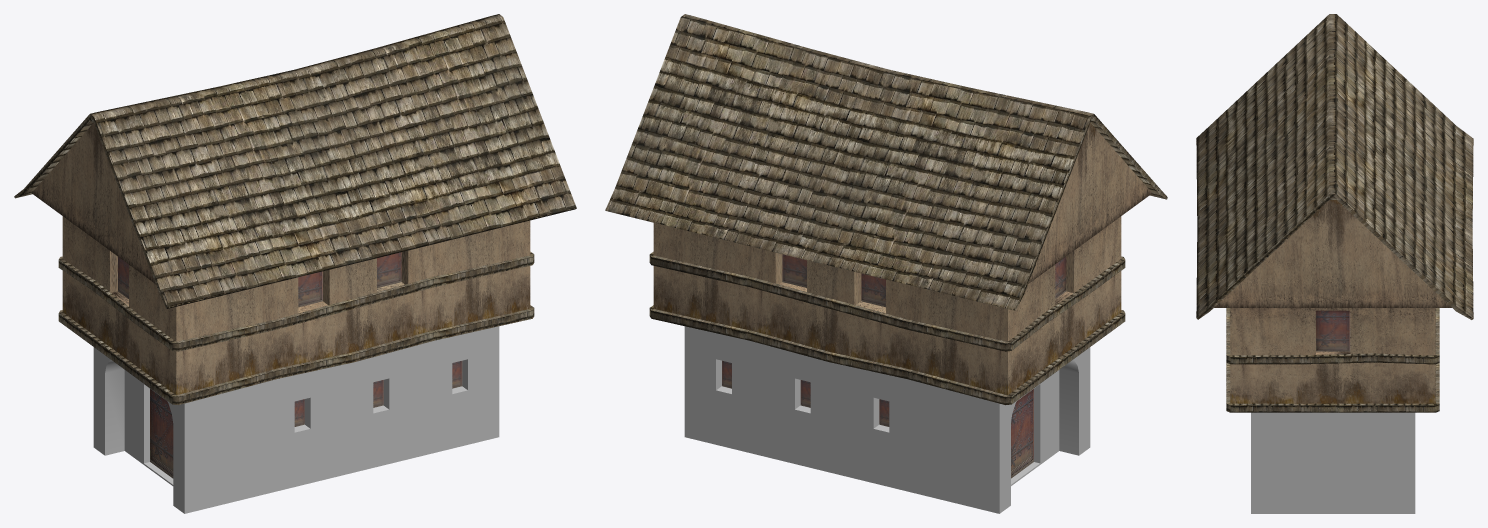
Rendered from f1_house01_lod3.fbx.
3 views of the same model, side by side, from view 1: azimuth 30°, elevation 25°; view 2: azimuth 150°, elevation 25°; view 3: azimuth 270°, elevation 25° (orthographic). The views are drawn at different scales.
Parts seen in each view (by area): view 1: Mesh Object; view 2: Mesh Object; view 3: Mesh Object.
Boxes of the visible parts, bbox=[...] form: Mesh Object: bbox=[14, 14, 576, 513]; Mesh Object: bbox=[605, 14, 1167, 513]; Mesh Object: bbox=[1196, 14, 1473, 513].
Bounding box in the file's own units: 10.4 × 9.15 × 6.75.
